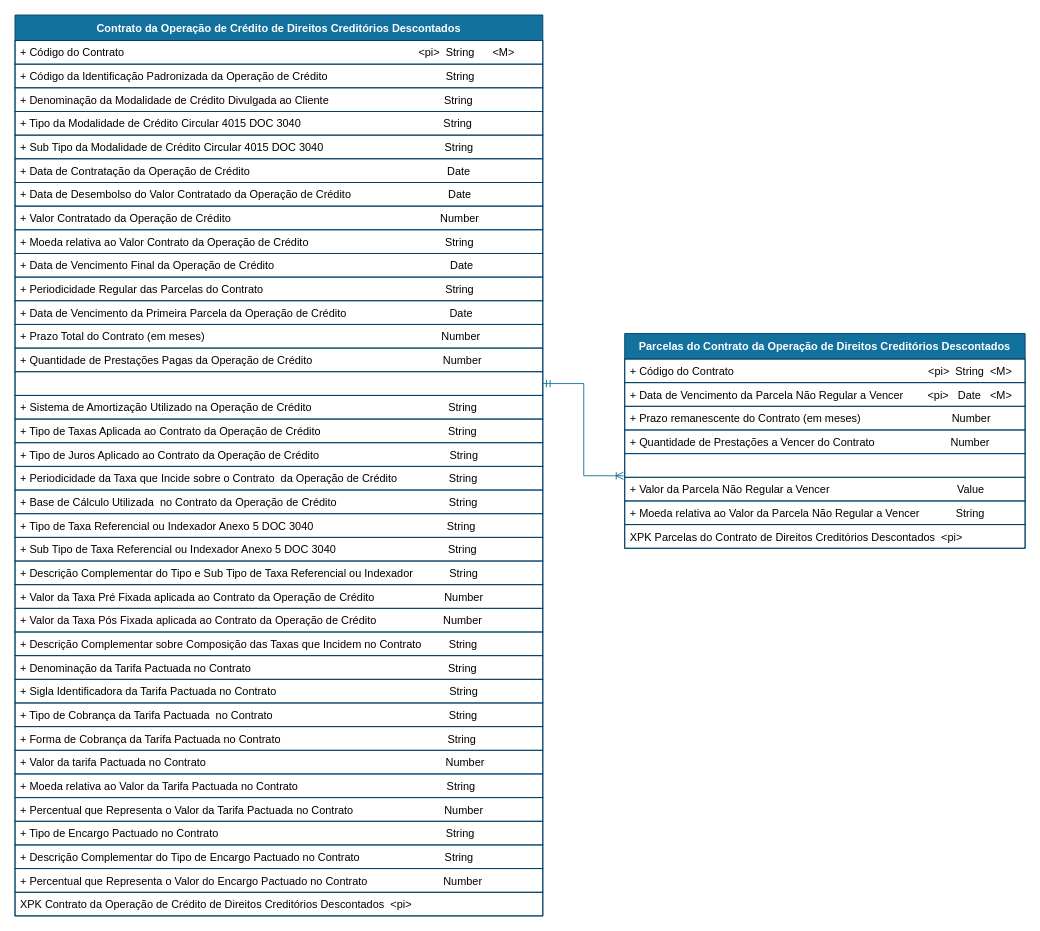
Image size: 1040x931. Some labels were removed from this diagram. The shapes that lost their labels are listed below. From the top down, each one's centre as x and y in pixels, then its label:
At [278,383]: "+ Custo Efetivo Total da Operação de Crédito Number".
At [824,465]: "+ Quantidade de Prestações Vencidas do Contrato Number".
